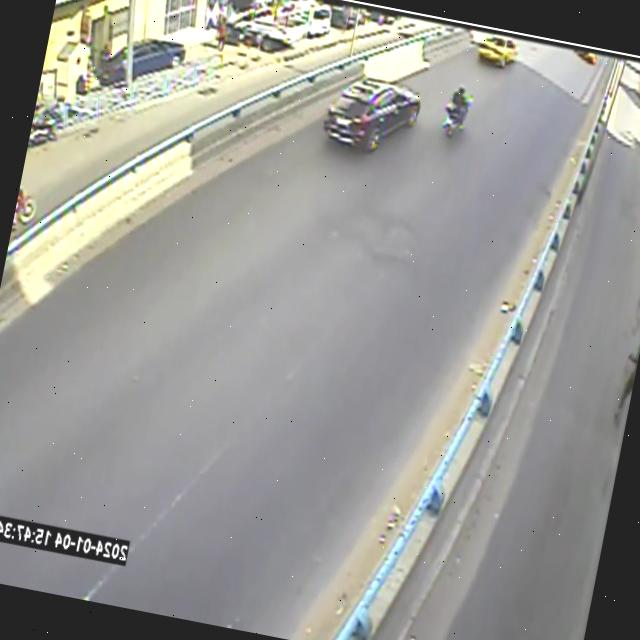car: (322, 71, 430, 166), (325, 78, 421, 152), (578, 52, 597, 65)
